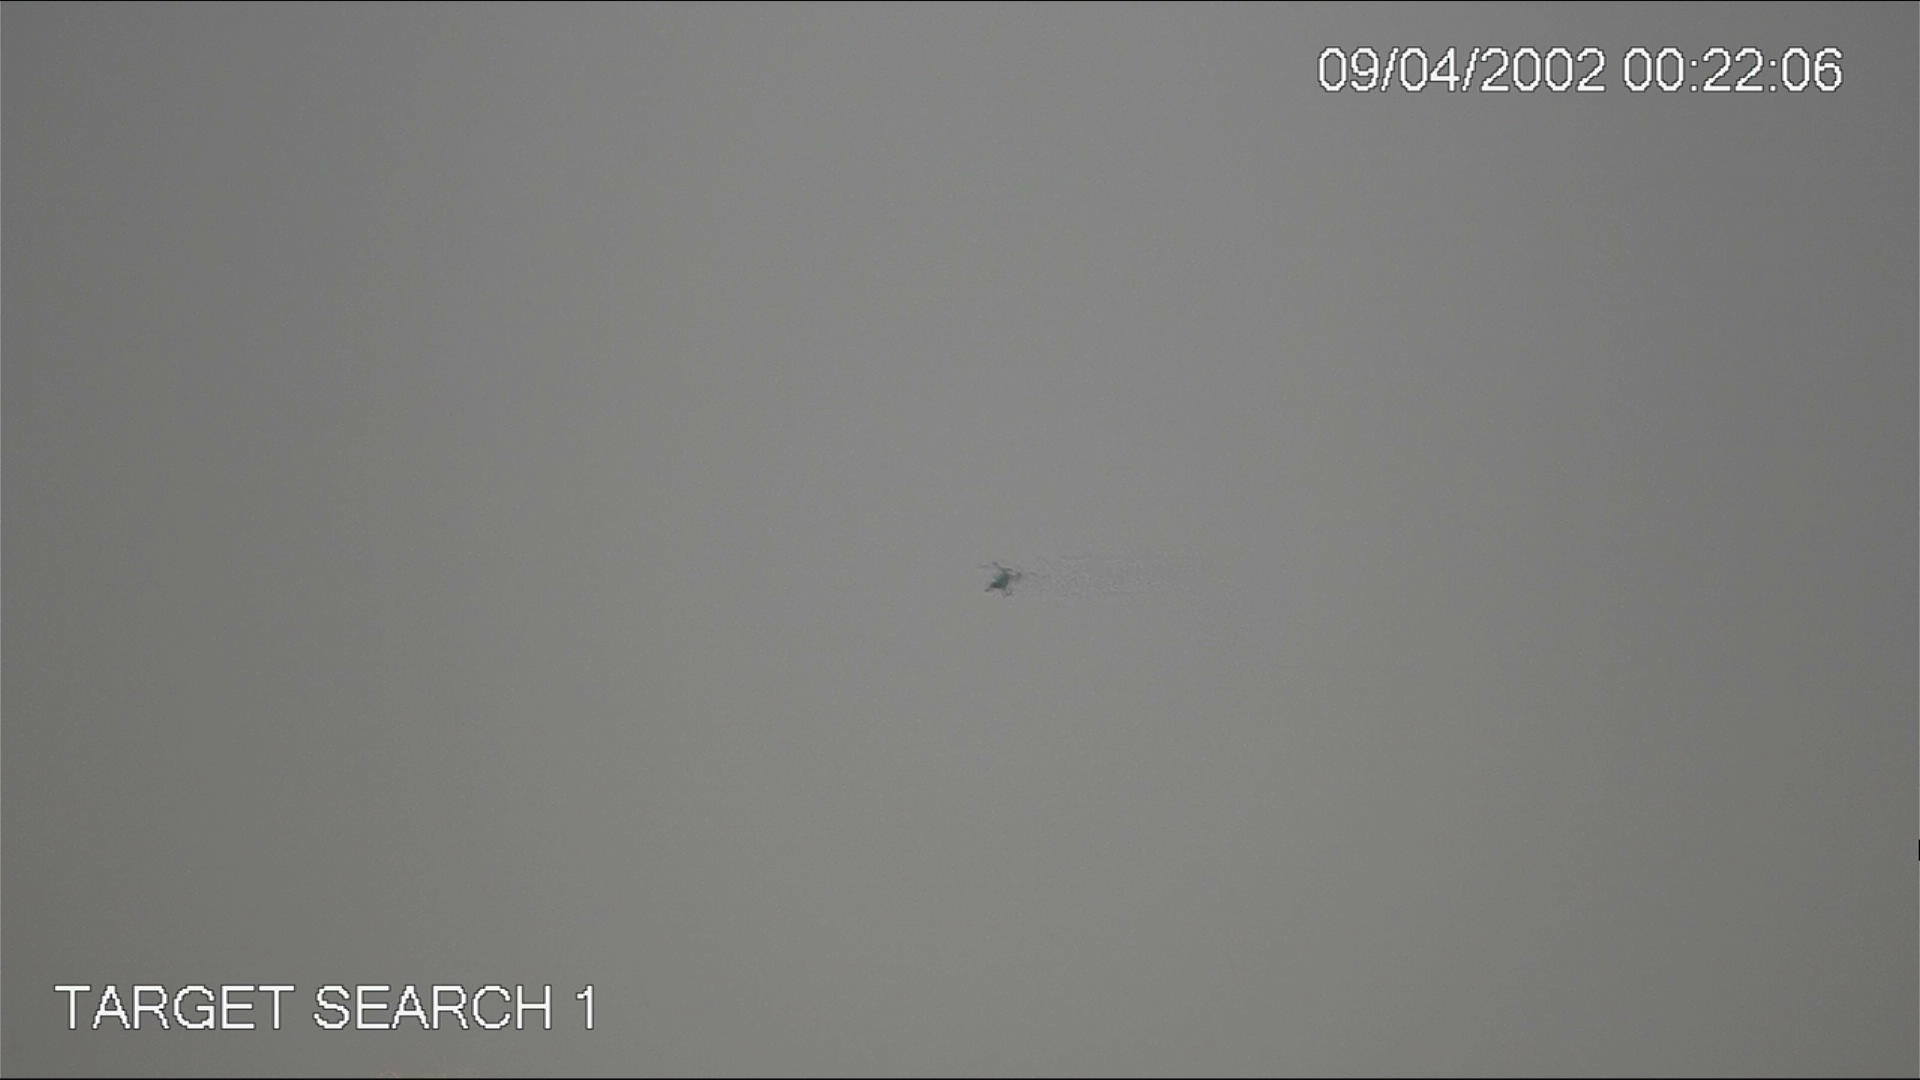SU_30: (978, 559, 1027, 597)
